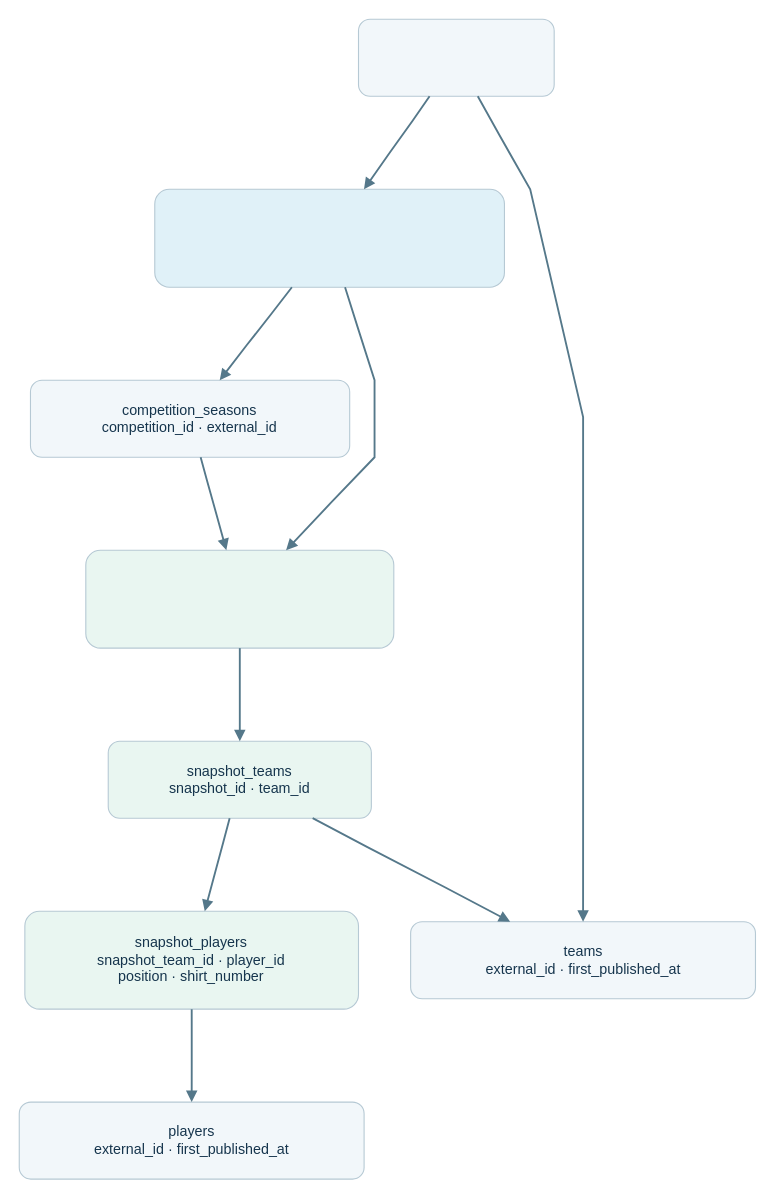
Some shapes in this 776 by 1199 pixel diagram are drawn without their labels. The shapes that lost their labels are listed below. From the top down, each one's box as (x1, y1, x2, y2) in pixels, then its label:
(357, 18, 554, 96): areas id · external_id
(154, 188, 504, 287): competitions external_id · current_season_id active_snapshot_id
(85, 549, 394, 648): competition_snapshots competition_id · season_id quality_summary
